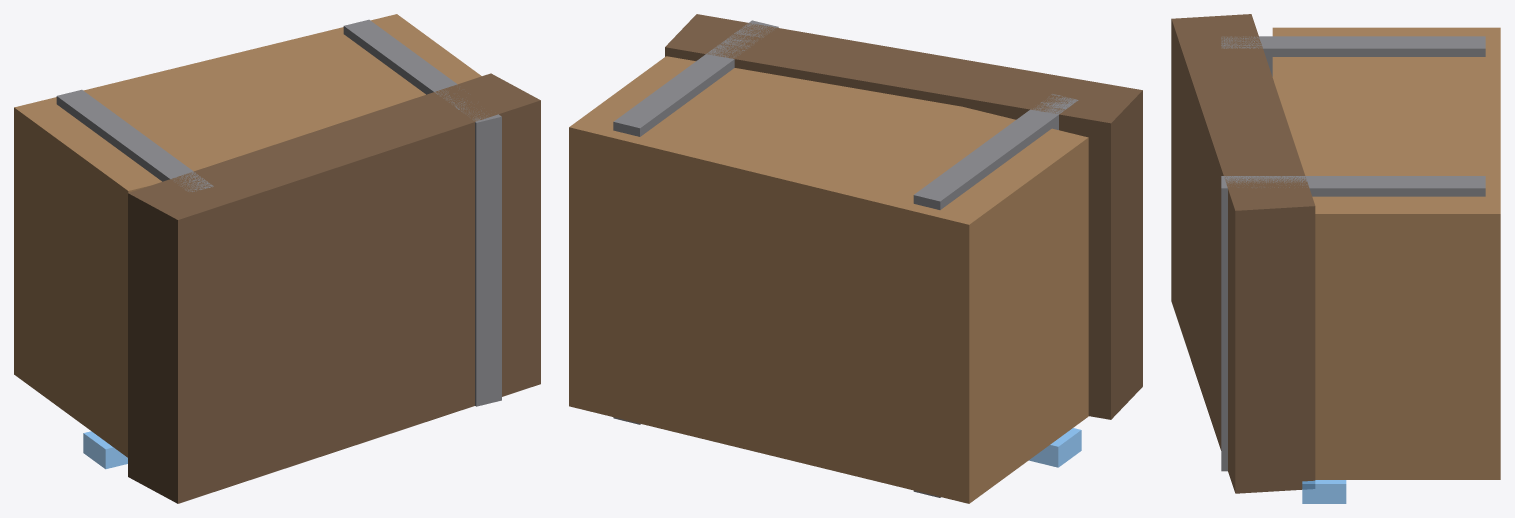
File: loot_chest_rare.glb
3 renders of one model, left to right at view 1: azimuth 30°, elevation 25°; view 2: azimuth 150°, elevation 25°; view 3: azimuth 270°, elevation 25°, orthographic. The views are drawn at different scales.
Parts seen in each view (by area): view 1: lid, chest_body, side_band_r, side_band_l, front_band; view 2: chest_body, lid, side_band_l, side_band_r, front_band; view 3: chest_body, lid, side_band_r, side_band_l, front_band.
Boxes of the visible parts, bbox=[...] form: lid: bbox=[128, 73, 540, 503]; chest_body: bbox=[14, 14, 481, 457]; side_band_r: bbox=[343, 19, 501, 406]; side_band_l: bbox=[56, 89, 213, 191]; front_band: bbox=[83, 431, 127, 469]; chest_body: bbox=[569, 56, 1088, 503]; lid: bbox=[665, 14, 1142, 419]; side_band_l: bbox=[913, 94, 1078, 497]; side_band_r: bbox=[613, 20, 778, 424]; front_band: bbox=[1029, 428, 1081, 467]; chest_body: bbox=[1272, 27, 1500, 479]; lid: bbox=[1171, 14, 1315, 493]; side_band_r: bbox=[1221, 176, 1485, 471]; side_band_l: bbox=[1221, 36, 1485, 76]; front_band: bbox=[1302, 480, 1346, 503].
Size of the model in its own units: 1.27 by 0.915 by 0.8959.
